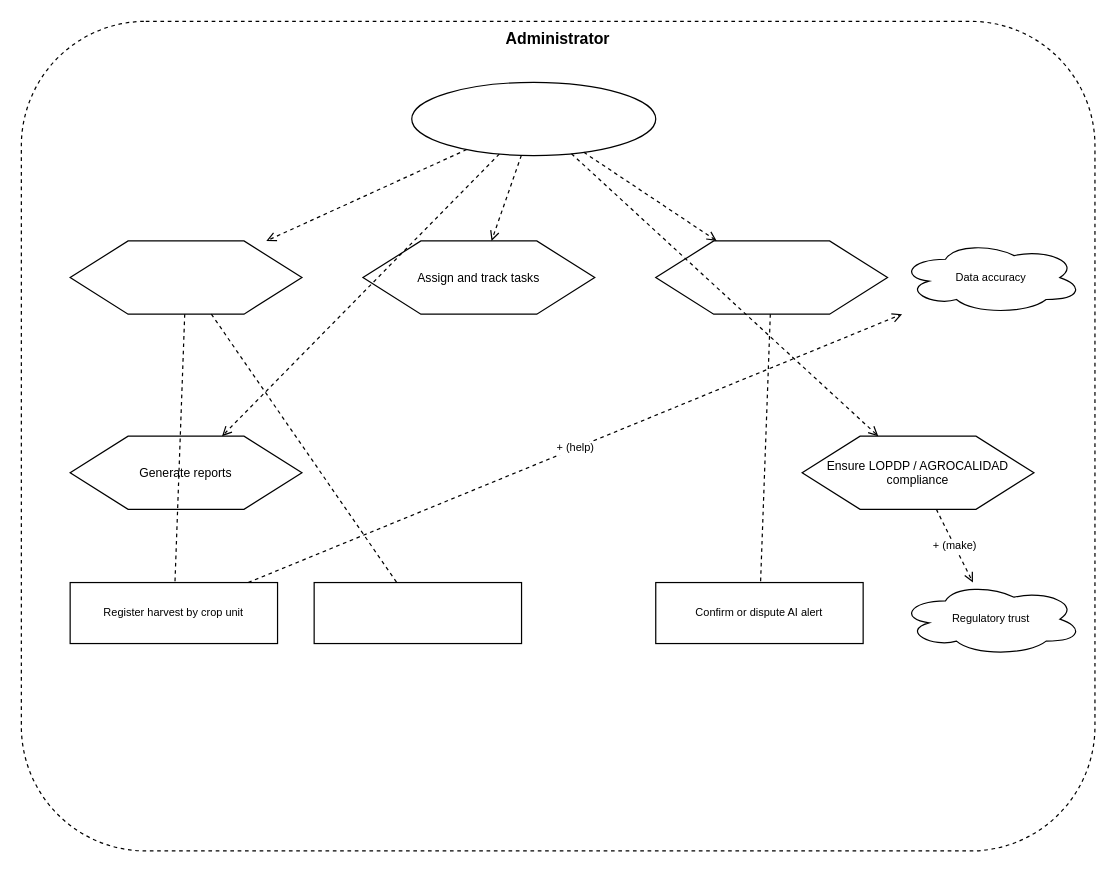
This 1116x872 diagram has some shape labels left out. Each missing label, with the box of its shape:
Alert low input stock: (313, 581, 522, 644)
Farm productivity maximized: (411, 81, 656, 156)
Manage plots and crops: (69, 240, 302, 314)
Review AI pest recommendations: (655, 240, 888, 314)
